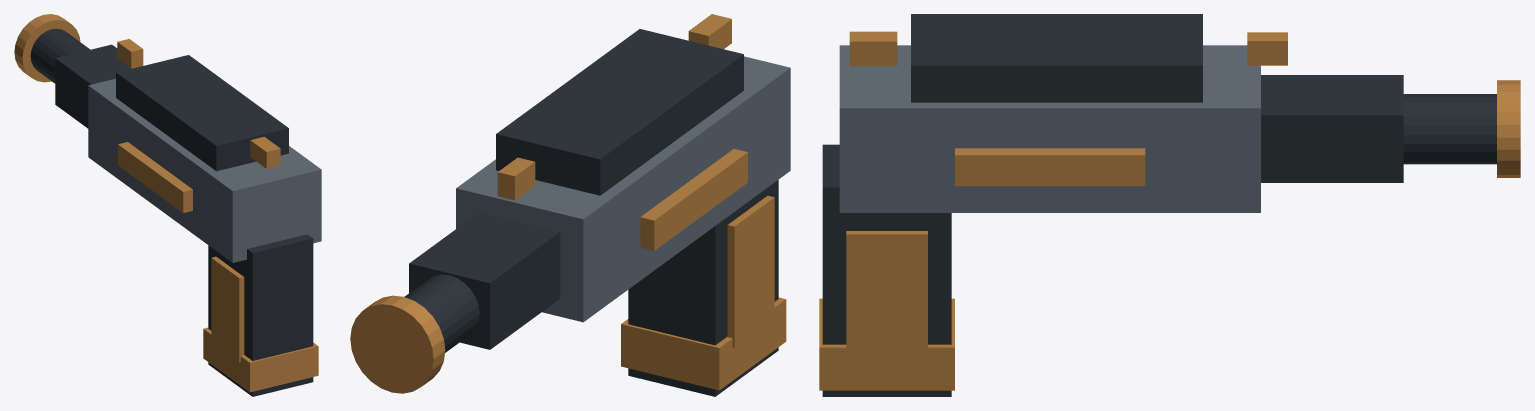
Rendered from hellforged_handcannon.glb.
3 views of the same model, side by side, from view 1: azimuth 30°, elevation 25°; view 2: azimuth 150°, elevation 25°; view 3: azimuth 270°, elevation 25° (orthographic). The views are drawn at different scales.
Parts seen in each view (by area): view 1: Slide, Top rail, Angled grip, Grip heel, Muzzle housing, Grip inlay -1, Left slide rail, Muzzle crown, Bore, Rear sight, Front sight; view 2: Slide, Top rail, Muzzle housing, Angled grip, Muzzle crown, Grip heel, Grip inlay -1, Left slide rail, Bore, Front sight, Rear sight; view 3: Slide, Top rail, Muzzle housing, Grip inlay 1, Angled grip, Right slide rail, Bore, Grip heel, Muzzle crown, Rear sight, Front sight.
Boxes of the visible parts, x1,y1,x2,y2 form: Slide: (88, 78, 321, 262); Top rail: (116, 55, 288, 171); Angled grip: (208, 234, 313, 396); Grip heel: (203, 327, 318, 392); Muzzle housing: (55, 44, 130, 128); Grip inlay -1: (211, 256, 244, 362); Left slide rail: (118, 142, 192, 212); Muzzle crown: (14, 14, 80, 82); Bore: (30, 28, 90, 83); Rear sight: (250, 136, 280, 168); Front sight: (117, 39, 143, 68); Slide: (456, 56, 790, 322); Top rail: (496, 29, 743, 195); Muzzle housing: (409, 212, 560, 349); Angled grip: (628, 180, 778, 396); Muzzle crown: (350, 295, 445, 393); Grip heel: (621, 297, 786, 390); Grip inlay -1: (727, 195, 774, 347); Left slide rail: (640, 149, 747, 250); Bore: (404, 274, 479, 352); Front sight: (497, 157, 535, 200); Rear sight: (688, 14, 731, 49); Slide: (839, 45, 1260, 212); Top rail: (911, 14, 1202, 102); Muzzle housing: (1261, 75, 1403, 182); Grip inlay 1: (846, 231, 927, 357); Angled grip: (822, 144, 951, 396); Right slide rail: (955, 148, 1145, 186); Bore: (1403, 94, 1496, 164); Grip heel: (819, 298, 954, 390); Muzzle crown: (1497, 80, 1520, 177); Rear sight: (849, 31, 897, 66); Front sight: (1247, 32, 1287, 65).
Size of the model in its own units: 0.269 by 0.55 by 1.03.
